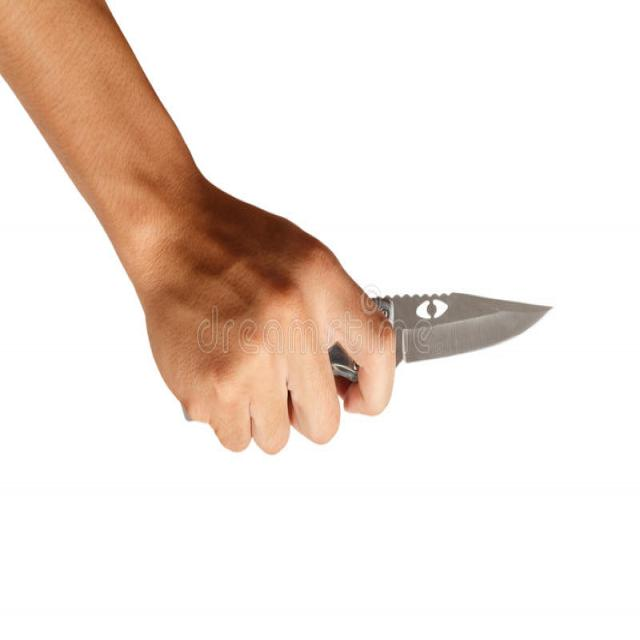knife: (331, 287, 553, 389)
